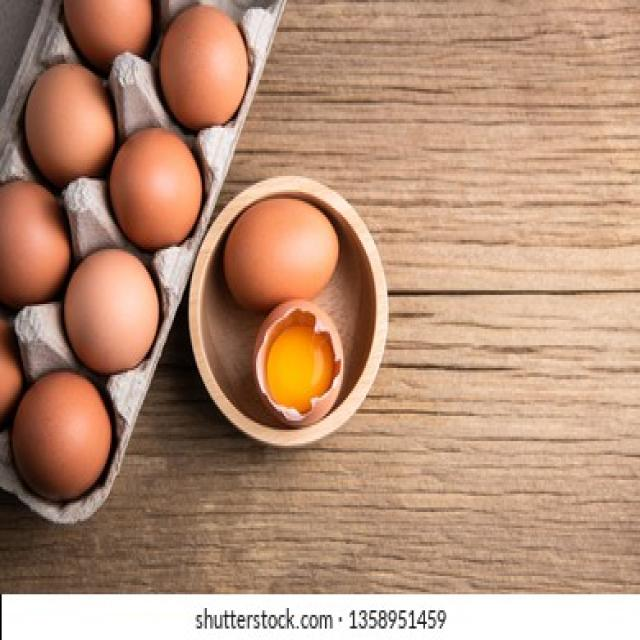Brown Egg: (58, 245, 161, 373), (6, 367, 112, 489), (17, 56, 115, 186), (157, 0, 259, 122), (110, 136, 207, 244), (0, 178, 74, 306), (62, 0, 160, 57)
White Egg: (221, 198, 344, 304)
